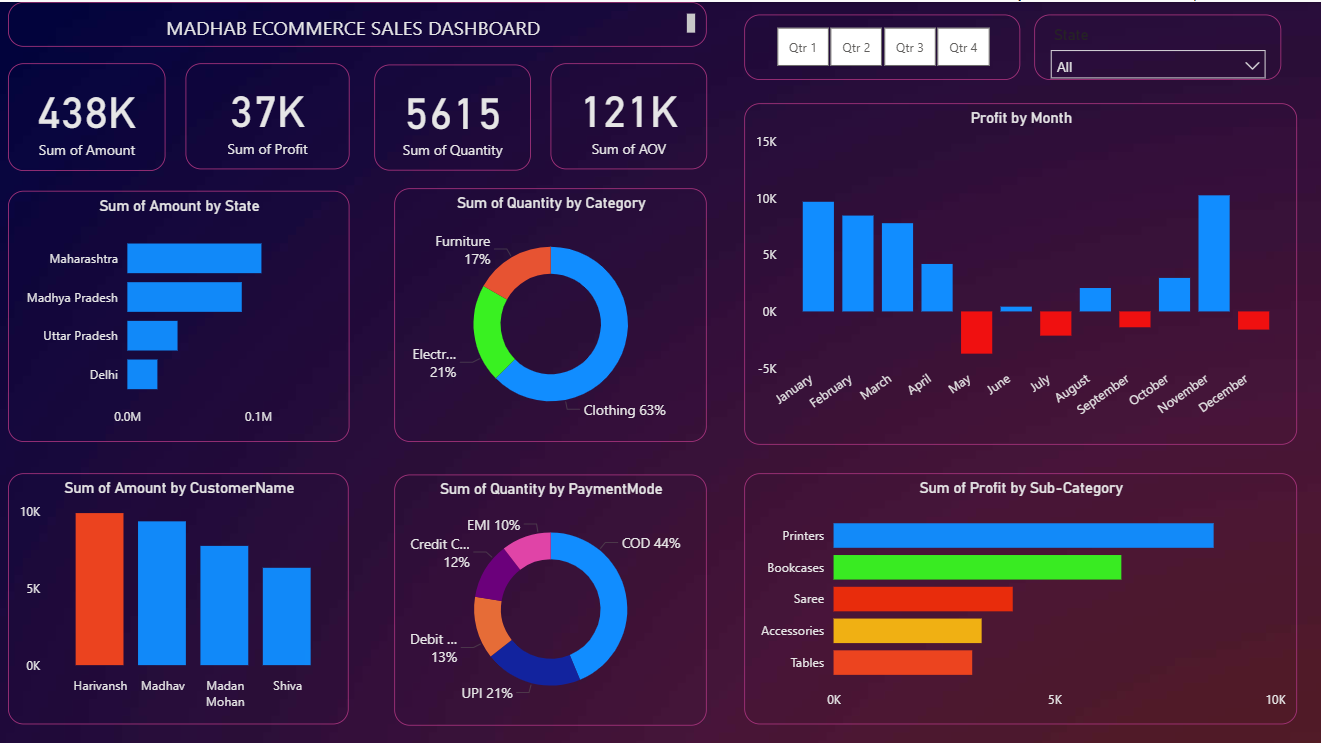

This screenshot's page, from the dashboard's own definition file:
{"tool":"powerbi","page":{"name":"Page 1","canvas":[1280,720],"ordinal":0},"visuals":[{"type":"textbox","box":[9.7,0,674.4,43.4],"z":0},{"type":"columnChart","title":"Profit by Month","fields":{"Category":["Orders.Order Date.Variation.Date Hierarchy.Month"],"Y":["Details.Profit"]},"box":[720.2,97.7,533.2,329.4],"z":1000},{"type":"barChart","fields":{"Category":["Details.Sub-Category"],"Y":["Details.Profit"]},"box":[720.2,454.8,533.2,242.5],"z":2000},{"type":"donutChart","fields":{"Category":["Details.Category"],"Y":["Details.Quantity"]},"box":[382.4,179.8,301.6,244.9],"z":3000},{"type":"donutChart","fields":{"Y":["Details.Quantity"],"Category":["Details.PaymentMode"]},"box":[382.4,456,301.6,242.5],"z":4000},{"type":"card","fields":{"Values":["Details.Amount"]},"box":[9.7,59.1,152,103.8],"z":5000},{"type":"card","fields":{"Values":["Details.Quantity"]},"box":[363.1,60.3,150.8,102.5],"z":6000},{"type":"card","fields":{"Values":["Details.Profit"]},"box":[181,59.1,158,102.5],"z":7000},{"type":"card","fields":{"Values":["Details.AOV"]},"box":[533.2,59.1,150.8,102.5],"z":8000},{"type":"barChart","fields":{"Category":["Orders.State"],"Y":["Details.Amount"]},"box":[9.7,182.2,329.4,242.5],"z":9000},{"type":"columnChart","fields":{"Category":["Orders.CustomerName"],"Y":["Details.Amount"]},"box":[10,455,329,242],"z":10000},{"type":"slicer","fields":{"Values":["Orders.Order Date.Variation.Date Hierarchy.Quarter"]},"box":[720.4,12.3,266.2,63.1],"z":11000},{"type":"slicer","fields":{"Values":["Orders.State"]},"box":[1000.3,12.3,238.8,63.1],"z":12000}]}

Visuals, with their boxes in screenshot pixels (x1, y1, x2, y2), scaled from the page's 1280x720 canvas onto the 1321x743 screenshot:
textbox: (10, 0, 706, 45)
"Profit by Month" columnChart: (743, 101, 1294, 441)
barChart - Details.Sub-Category x Details.Profit: (743, 469, 1294, 720)
donutChart - Details.Category x Details.Quantity: (395, 186, 706, 438)
donutChart - Details.Quantity x Details.PaymentMode: (395, 471, 706, 721)
card - Details.Amount: (10, 61, 167, 168)
card - Details.Quantity: (375, 62, 530, 168)
card - Details.Profit: (187, 61, 350, 167)
card - Details.AOV: (550, 61, 706, 167)
barChart - Orders.State x Details.Amount: (10, 188, 350, 438)
columnChart - Orders.CustomerName x Details.Amount: (10, 470, 350, 719)
slicer - Orders.Order Date.Variation.Date Hierarchy.Quarter: (743, 13, 1018, 78)
slicer - Orders.State: (1032, 13, 1279, 78)
